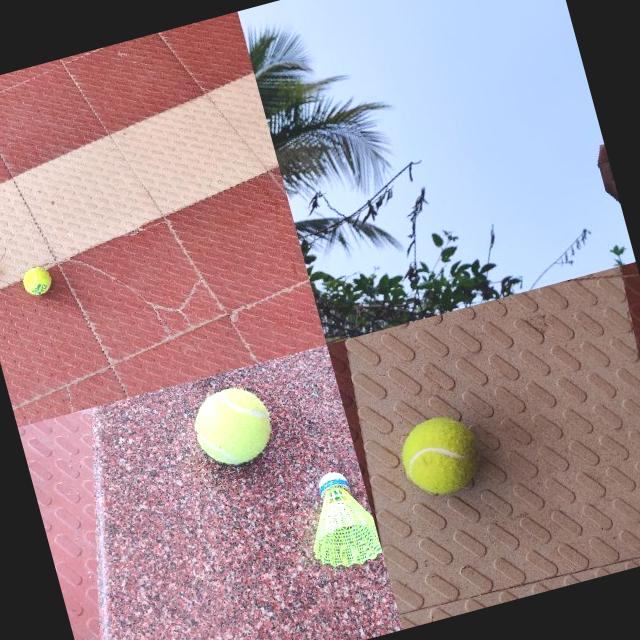tennis-ball: (393, 408, 488, 501), (187, 379, 279, 472), (19, 263, 53, 297)
